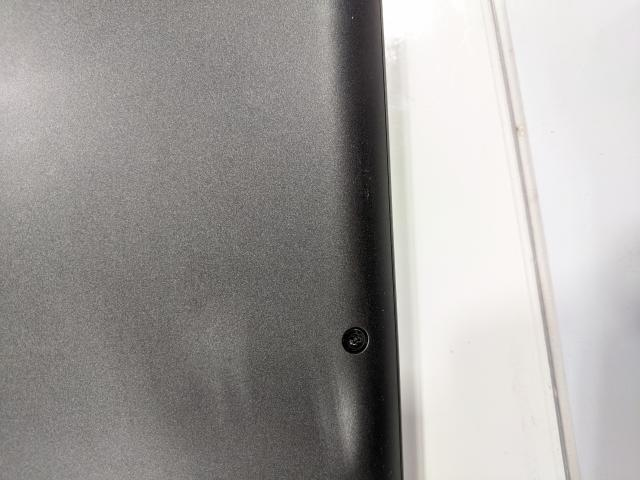CRS: (341, 328, 370, 354)
